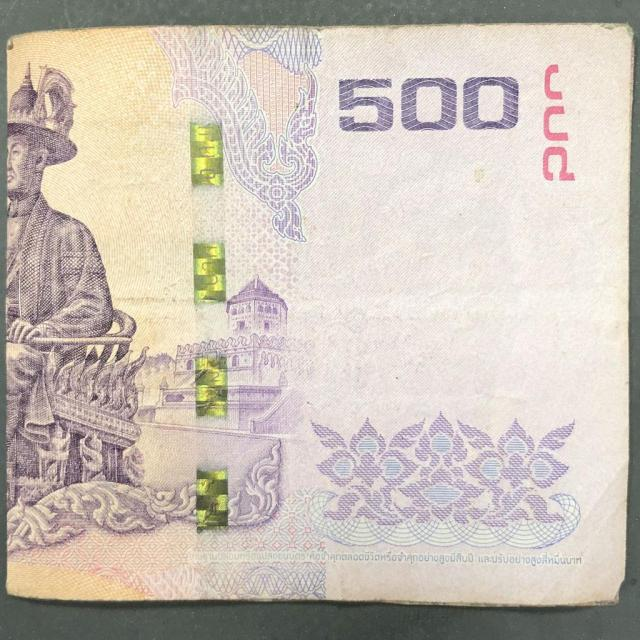THAI500: (6, 24, 633, 606)
